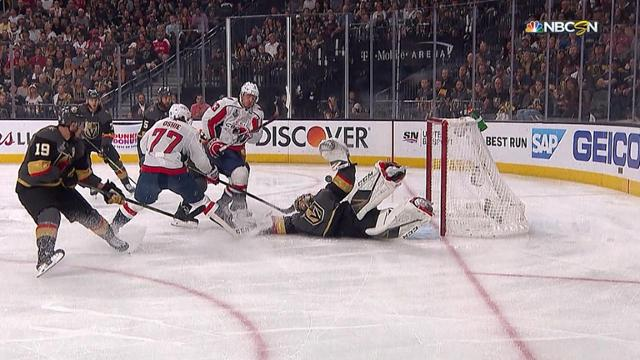geico: (570, 122, 640, 173)
